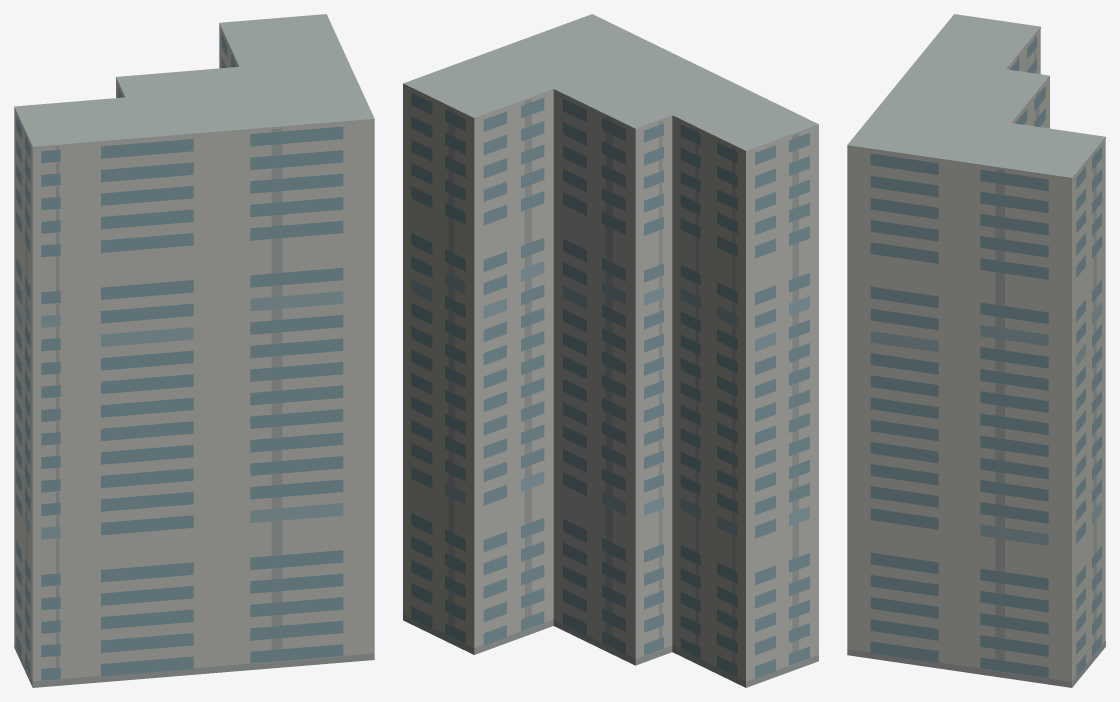
File: residential-410deaf1-d877-4916-8d8f-ef27dc33ad9b.glb
The picture shows the model from 3 angles, left to right: view 1: azimuth 30°, elevation 25°; view 2: azimuth 150°, elevation 25°; view 3: azimuth 270°, elevation 25°; orthographic projection. The views are drawn at different scales.
Parts seen in each view (by area): view 1: residential-410deaf1-d877-4916-8d8f-ef27dc33ad9b.tmp; view 2: residential-410deaf1-d877-4916-8d8f-ef27dc33ad9b.tmp; view 3: residential-410deaf1-d877-4916-8d8f-ef27dc33ad9b.tmp.
Part boxes in pixels (box(x1,y1,x2,y2)): residential-410deaf1-d877-4916-8d8f-ef27dc33ad9b.tmp: box(14, 14, 374, 687); residential-410deaf1-d877-4916-8d8f-ef27dc33ad9b.tmp: box(403, 14, 818, 687); residential-410deaf1-d877-4916-8d8f-ef27dc33ad9b.tmp: box(847, 14, 1105, 687).
Bounding box in the file's own units: 46.19 × 67 × 30.8.
